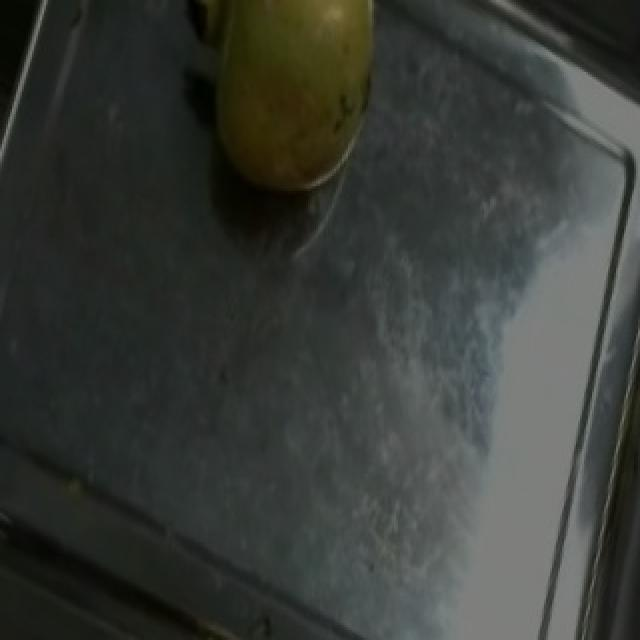fruit: (176, 0, 414, 221)
